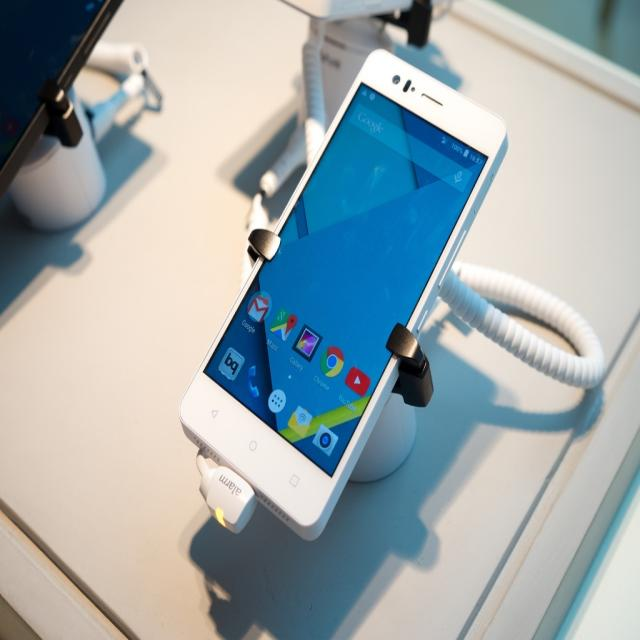Mobile-phone: (209, 56, 501, 556), (0, 0, 121, 201), (284, 0, 446, 19)
